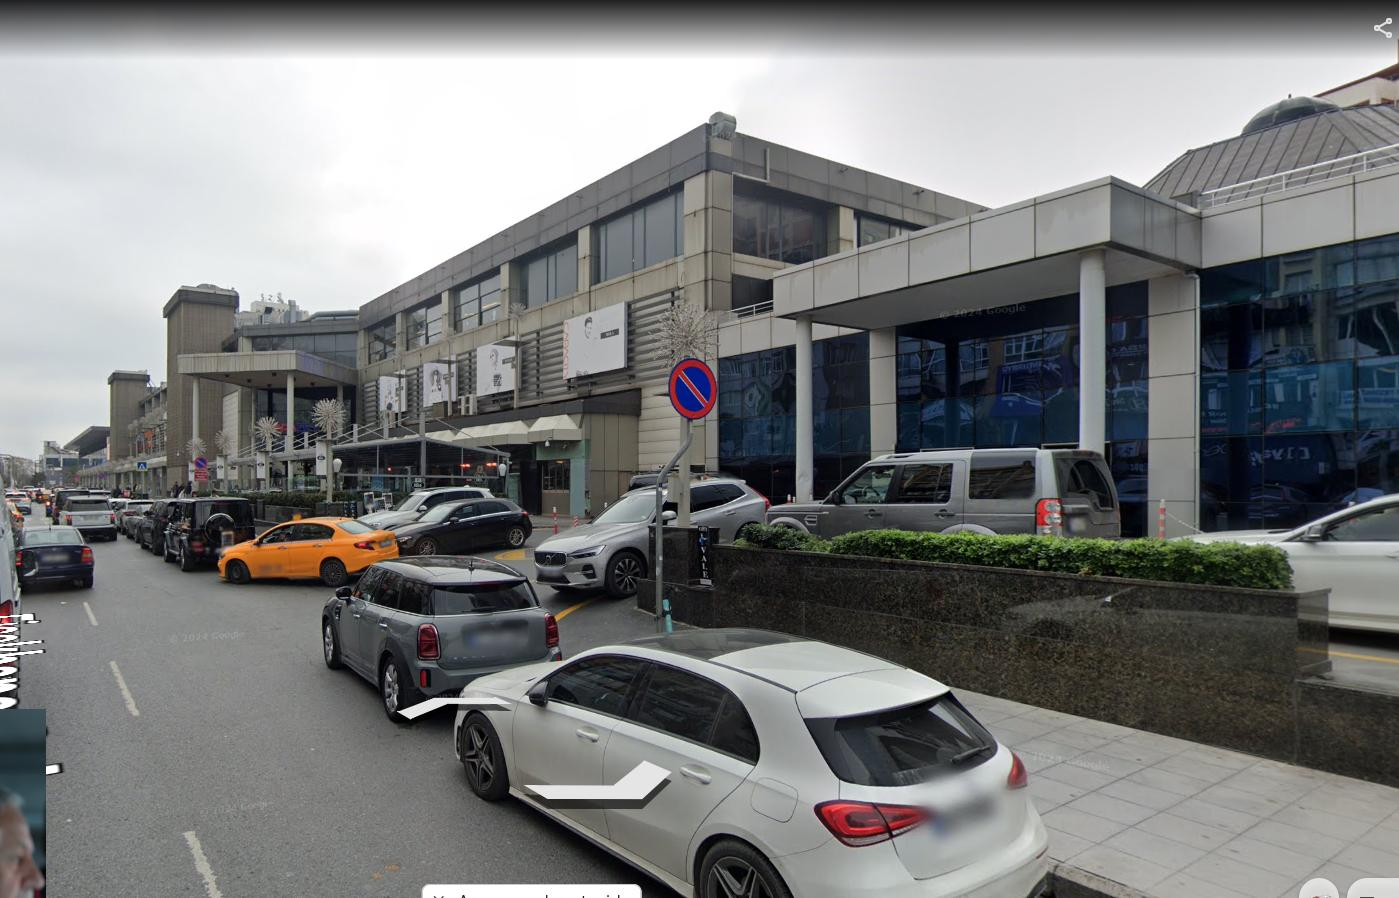nopark: (672, 357, 715, 418)
